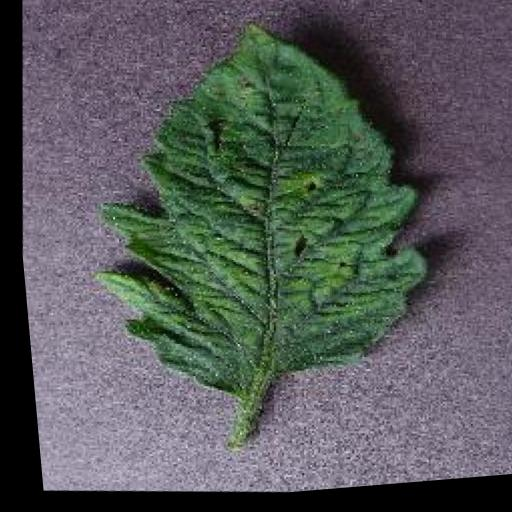Mosaic Virus: (59, 0, 453, 425)
